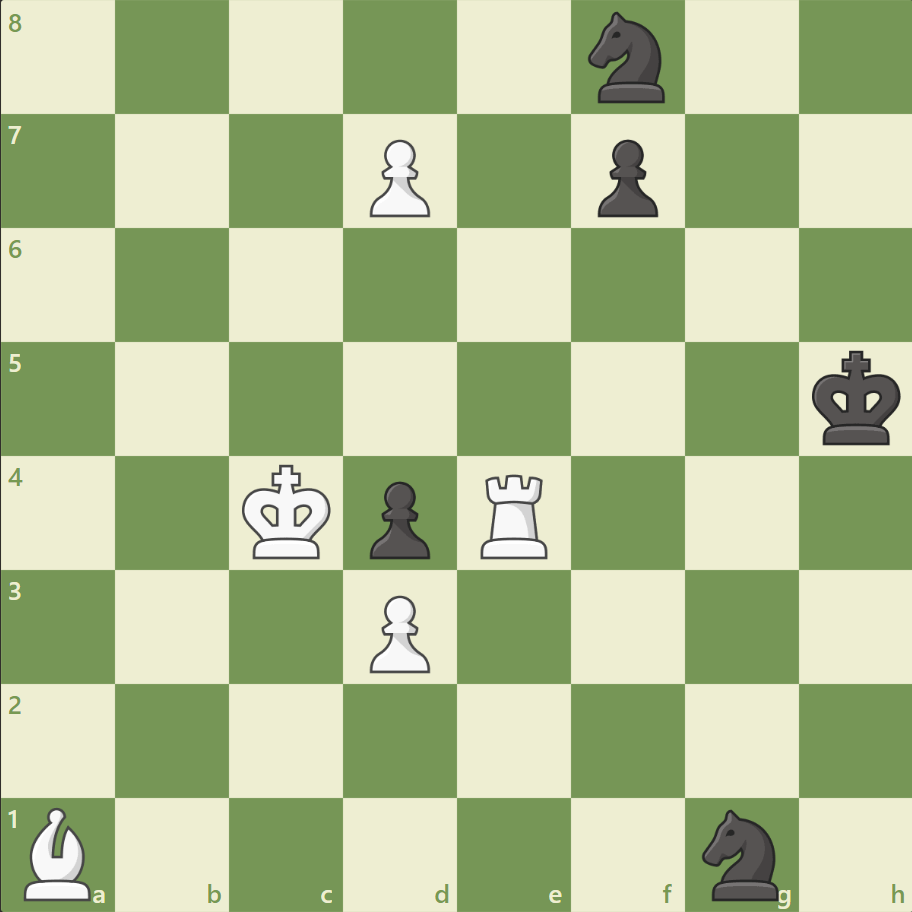B: (17, 801, 101, 904)
K: (238, 458, 338, 566)
P: (361, 132, 435, 223), (361, 586, 435, 677)
R: (473, 466, 556, 563)
k: (806, 344, 906, 452)
n: (579, 7, 676, 110), (692, 802, 789, 904)
p: (588, 132, 662, 223), (361, 473, 435, 564)
